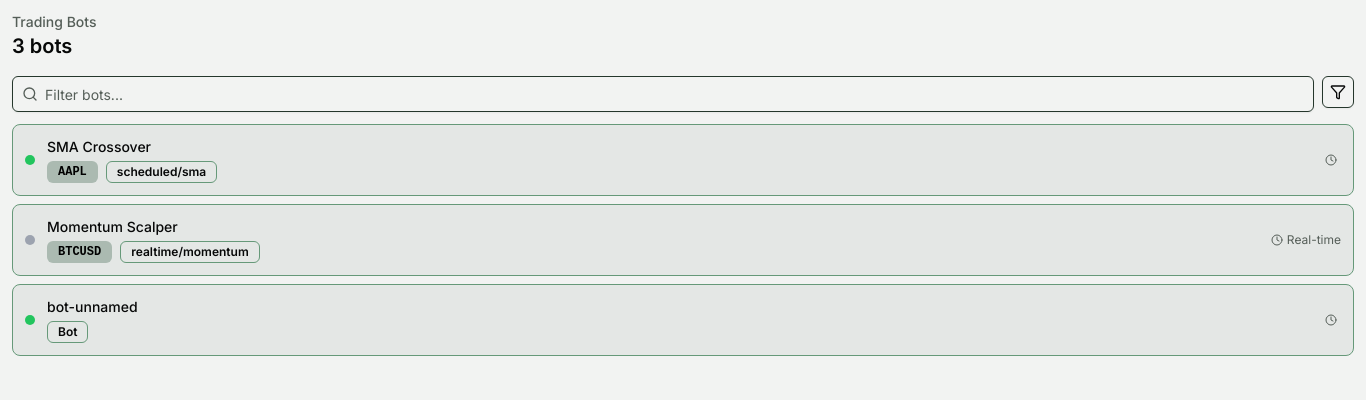
it: DashboardPage › mobile filtering › filters by type and counts the active filter
Click the button named "Filter bots" at (1338, 92), box x1=1322 y1=76 x2=1354 y2=108
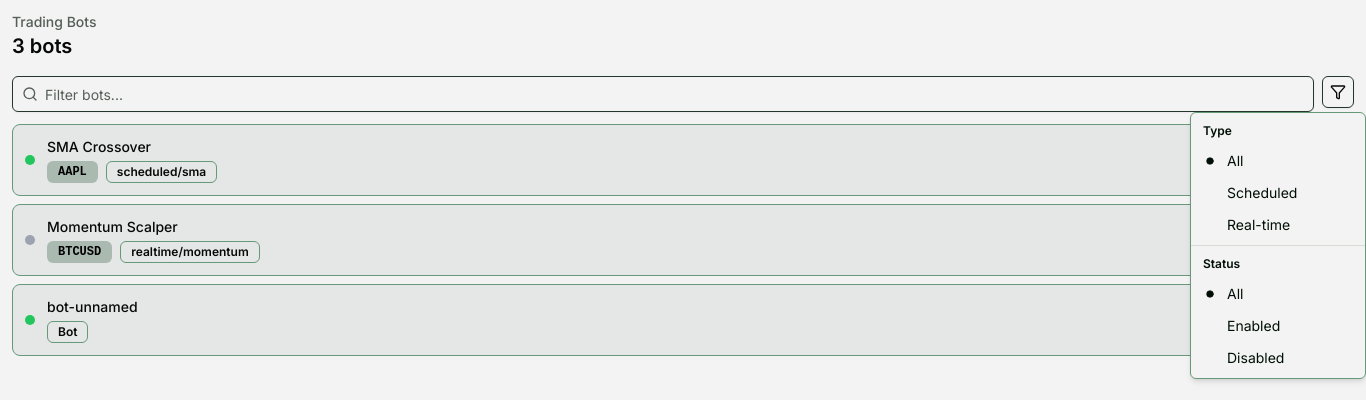
Click the menu item "Real-time" at (1259, 224), box x1=1227 y1=216 x2=1290 y2=233
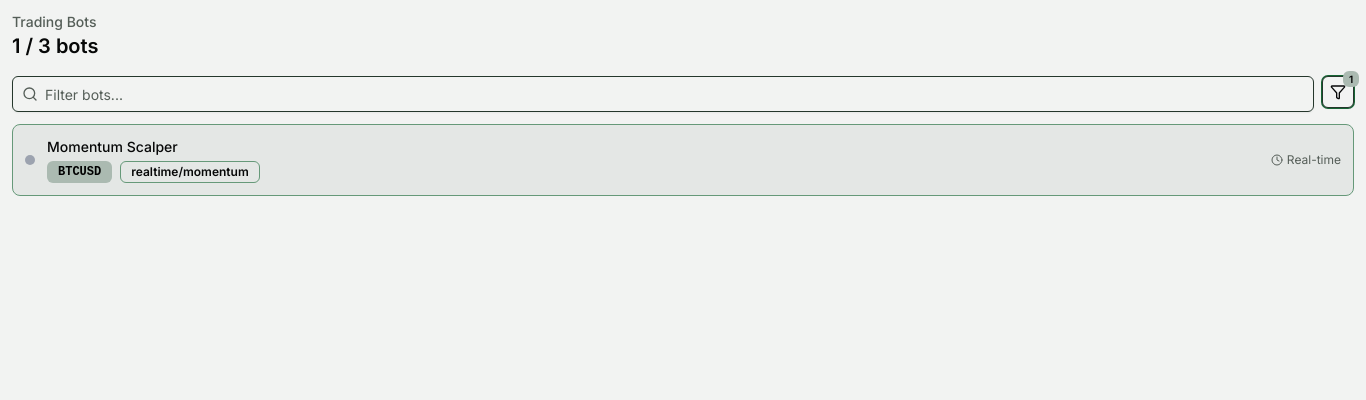
Expected: the button "Momentum Scalper BTCUSD realtime/momentum Real-time" is shown, x1=12 y1=124 x2=1354 y2=196
Expected: the text "1 / 3 bots" is shown, x1=12 y1=34 x2=98 y2=58
Expected: the button named "Filter bots (1 active)" reads "1", x1=1322 y1=76 x2=1354 y2=108
